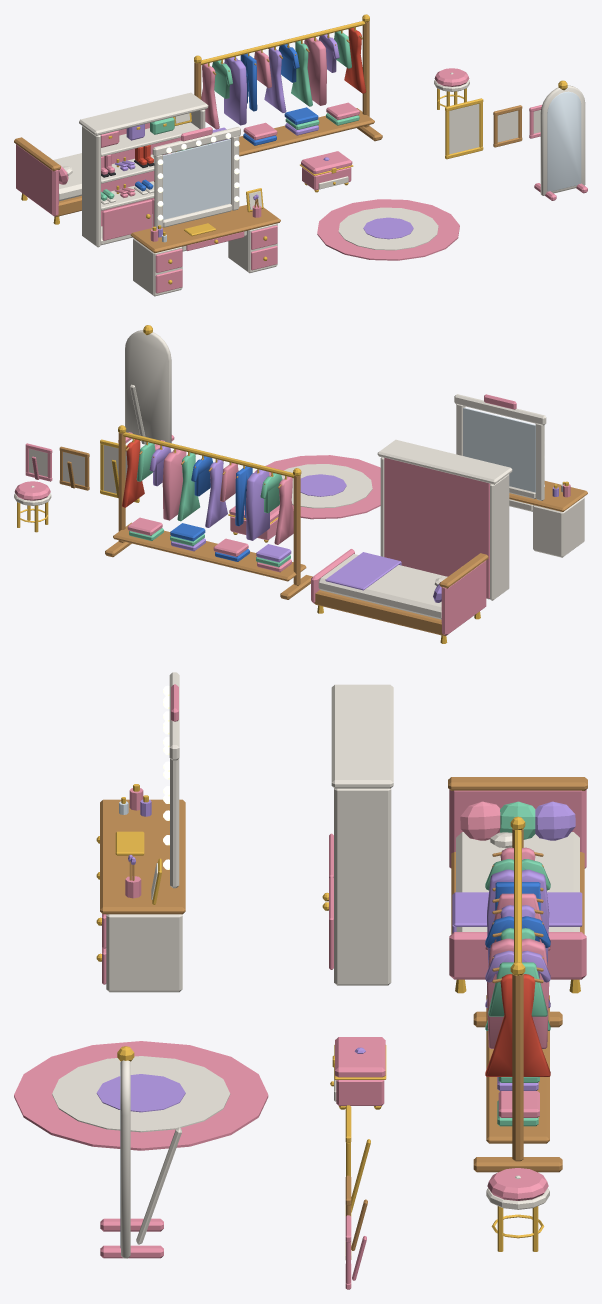
File: pastel-walk-in-closet.glb
3 renders of one model, top to bottom at view 1: azimuth 30°, elevation 25°; view 2: azimuth 150°, elevation 25°; view 3: azimuth 270°, elevation 25°, orthographic. The views are drawn at different scales.
Parts seen in each view (by area): view 1: Vanity_Mirror_Glass, Rug_Outer, FloorMirror_Glass, Vanity_Top, Rug_Inner, Shelf_Top, Shelf_Side_L, Daybed_Headboard, Rail_Shelf, FloorMirror_Frame, Door_L, Frame_0_Blank (+39 smaller); view 2: Shelf_Back, FloorMirror_Frame, Vanity_Mirror_Glass, Mattress, Shelf_Top, Rug_Outer, Pedestal_L, Shelf_Side_L, Daybed_Headboard, Rail_Shelf, Daybed_Frame, Rug_Inner (+30 smaller); view 3: Shelf_Side_R, Rug_Outer, Rug_Inner, Vanity_Top, Shelf_Top, Pedestal_R, Mattress, Daybed_Footboard, Outfit_Dress_11, Daybed_Headboard, Rail_Shelf, Throw_Blanket (+20 smaller).
Part boxes in pixels (box(x1,y1,x2,y2)): Vanity_Mirror_Glass: box(163, 139, 230, 219); Rug_Outer: box(317, 199, 459, 260); FloorMirror_Glass: box(547, 91, 581, 191); Vanity_Top: box(130, 205, 280, 253); Rug_Inner: box(338, 207, 438, 250); Shelf_Top: box(79, 92, 208, 135); Shelf_Side_L: box(82, 126, 100, 247); Daybed_Headboard: box(16, 144, 58, 216); Rail_Shelf: box(239, 108, 374, 156); FloorMirror_Frame: box(540, 85, 585, 195); Door_L: box(102, 199, 152, 240); Frame_0_Blank: box(449, 104, 479, 154); Shelf_Back: box(384, 457, 489, 598); FloorMirror_Frame: box(125, 330, 171, 443); Vanity_Mirror_Glass: box(463, 407, 535, 492); Mattress: box(318, 554, 447, 619); Shelf_Top: box(377, 439, 512, 484); Rug_Outer: box(254, 455, 380, 519); Pedestal_L: box(533, 497, 584, 557); Shelf_Side_L: box(489, 474, 509, 600); Daybed_Headboard: box(441, 560, 486, 635); Rail_Shelf: box(113, 522, 306, 581); Daybed_Frame: box(314, 590, 445, 635); Rug_Inner: box(281, 464, 372, 508); Shelf_Side_R: box(334, 788, 391, 985); Rug_Outer: box(14, 1041, 268, 1150); Rug_Inner: box(52, 1056, 230, 1132); Vanity_Top: box(100, 799, 185, 914); Shelf_Top: box(331, 684, 393, 788); Pedestal_R: box(106, 914, 182, 992); Mattress: box(456, 832, 579, 931); Daybed_Footboard: box(449, 932, 586, 979); Outfit_Dress_11: box(485, 974, 550, 1076); Daybed_Headboard: box(449, 789, 586, 868); Rail_Shelf: box(486, 995, 549, 1143); Throw_Blanket: box(453, 892, 582, 926).
Size of the model in its own units: 30.39 by 8.45 by 18.05.
